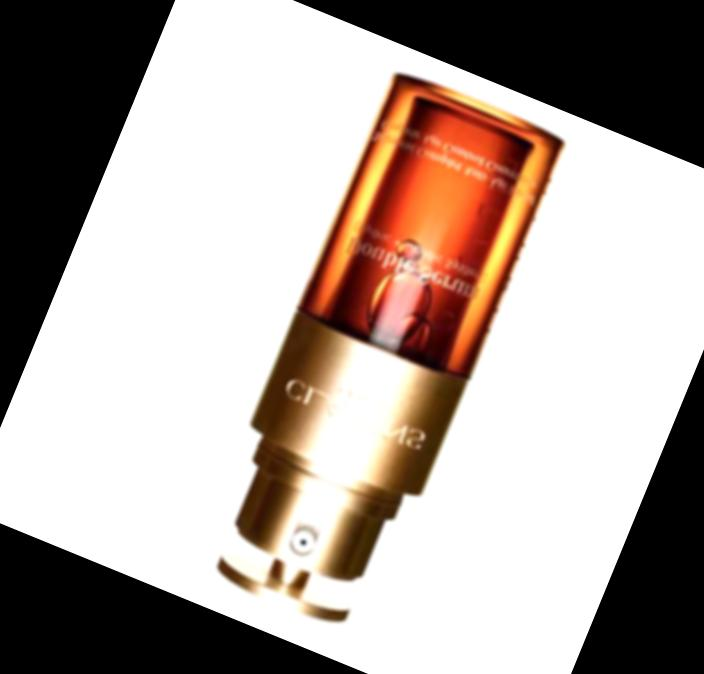cosmetic: (180, 69, 568, 647)
